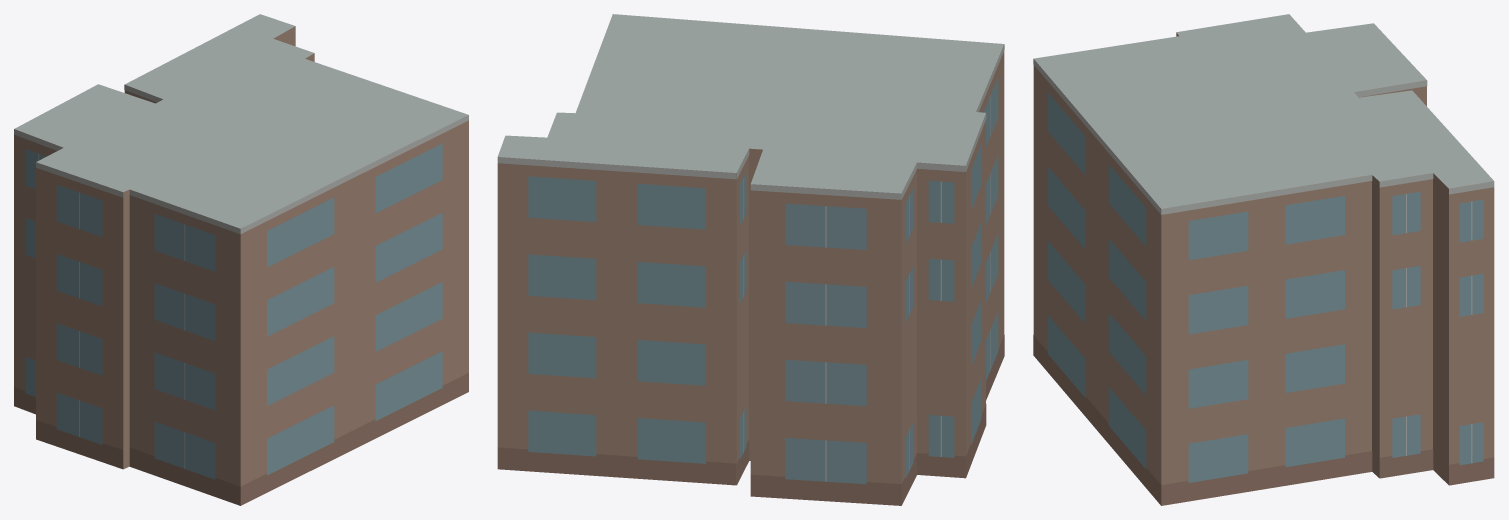
The model's file is survey-upis-32985128.glb.
The picture shows the model from 3 angles, left to right: view 1: azimuth 30°, elevation 25°; view 2: azimuth 150°, elevation 25°; view 3: azimuth 270°, elevation 25°; orthographic projection. The views are drawn at different scales.
Visible parts, largest first — view 1: survey-upis-32985128.tmp; view 2: survey-upis-32985128.tmp; view 3: survey-upis-32985128.tmp.
Boxes of the visible parts, x1=… form: survey-upis-32985128.tmp: x1=14, y1=14, x2=468, y2=505; survey-upis-32985128.tmp: x1=497, y1=14, x2=1004, y2=505; survey-upis-32985128.tmp: x1=1033, y1=14, x2=1494, y2=505.
Size of the model in its own units: 17.2 by 12.2 by 17.18.
